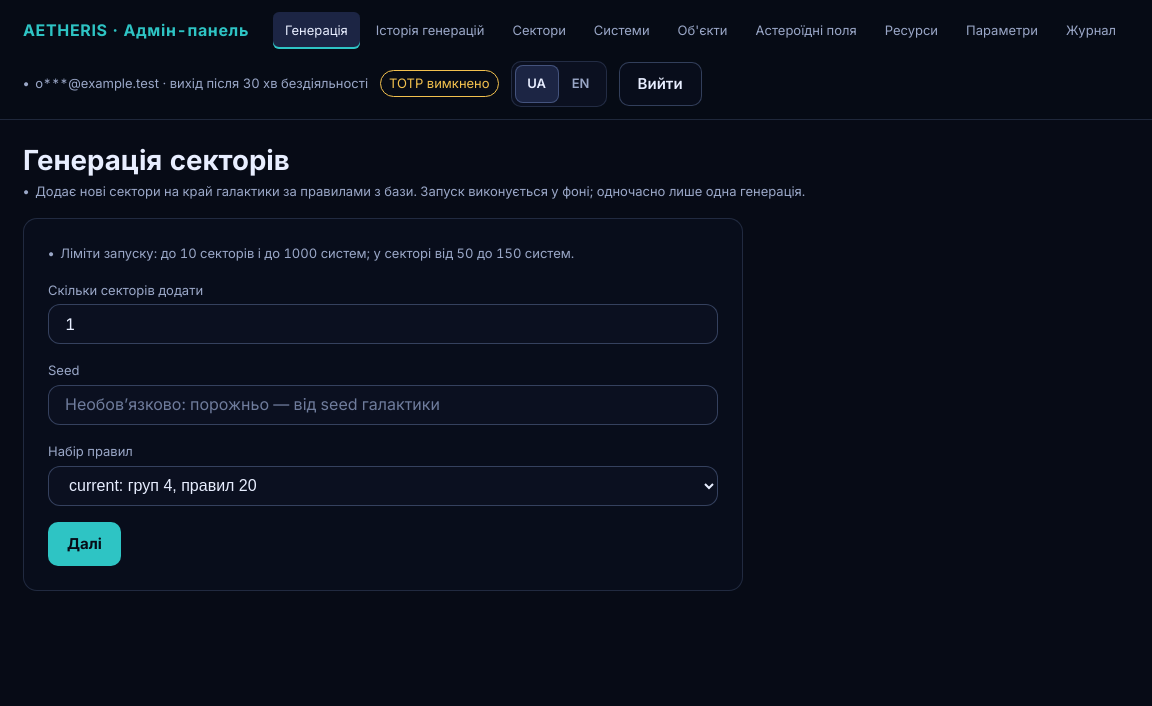
AdminApp › confirms a generation with its summary and shows the result of the run
The image size is (1152, 706).
Replace the text in the number field labelled "Скільки секторів додати" with "2" at x=383, y=324, box [48,304,718,344]
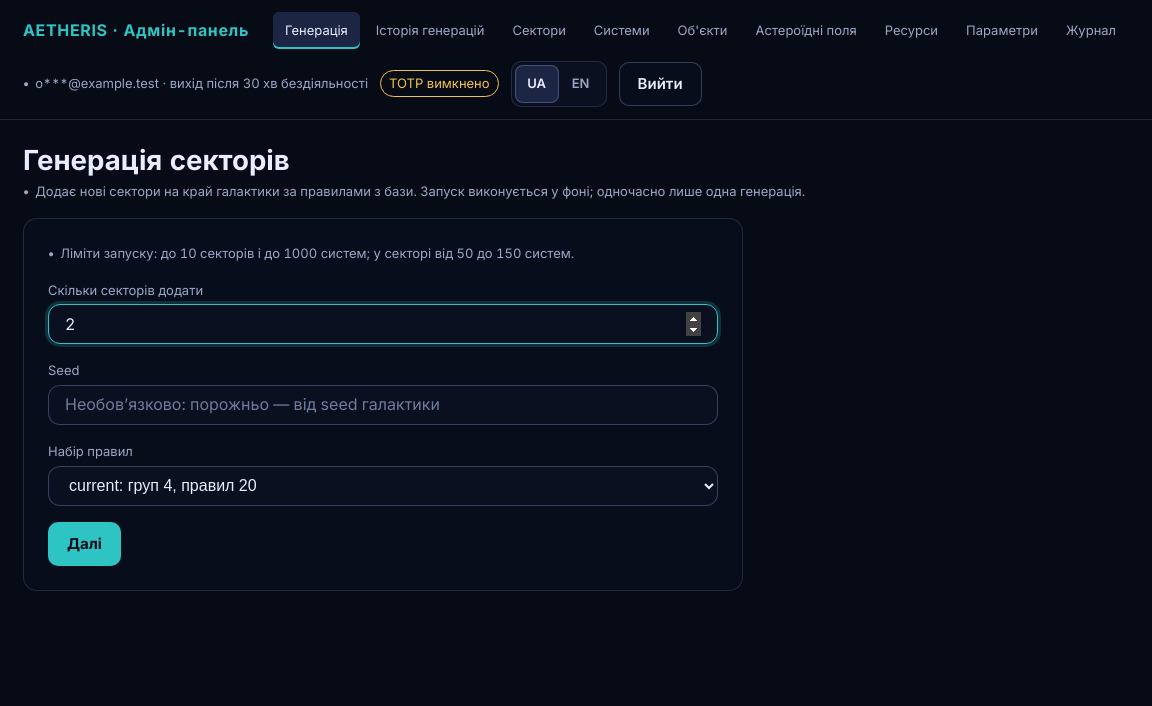
Type "42" into the number field labelled "Seed" at x=383, y=405, box [48,385,718,425]
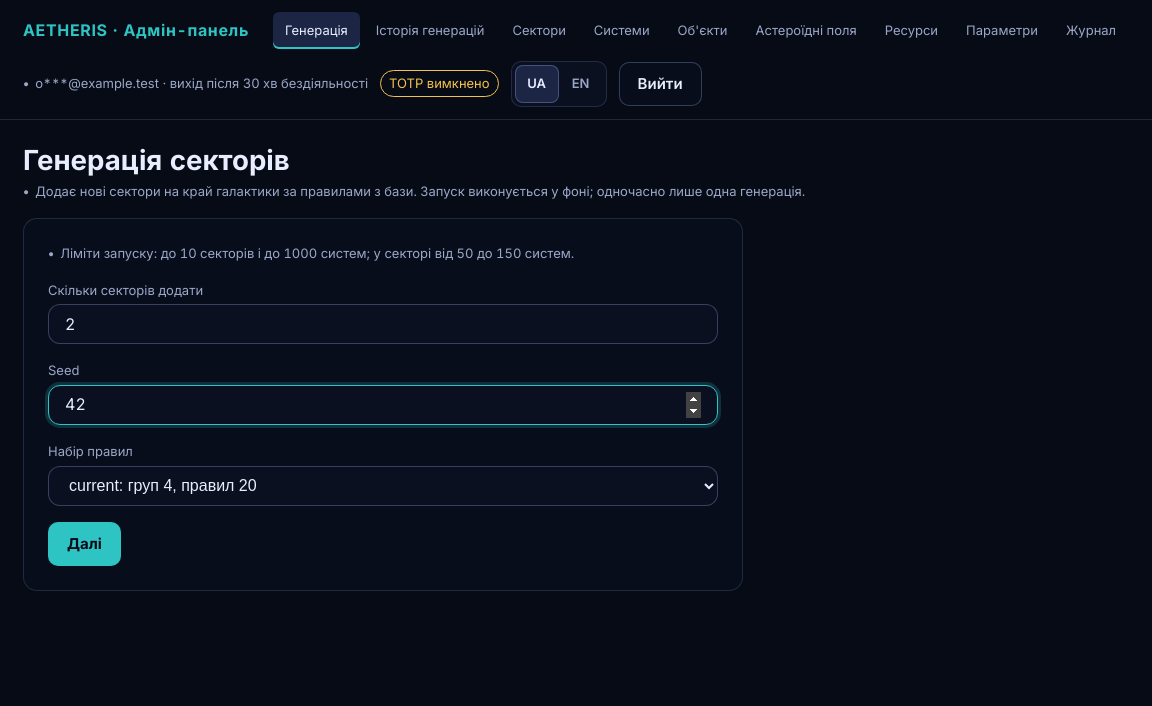
Click the button "Далі" at x=84, y=544, box [48,522,121,566]
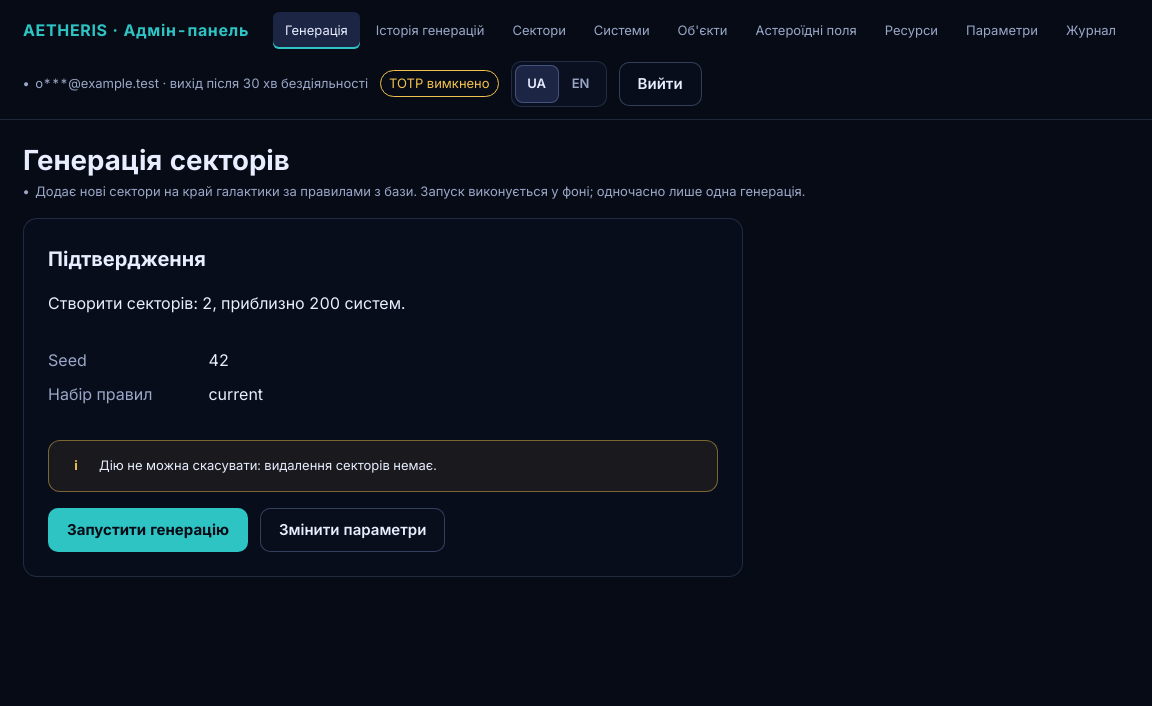
Now the text "Створити секторів: 2, приблизно 200 систем." is shown, box [48,293,405,313]
Click the button "Запустити генерацію" at x=148, y=530, box [48,508,248,552]
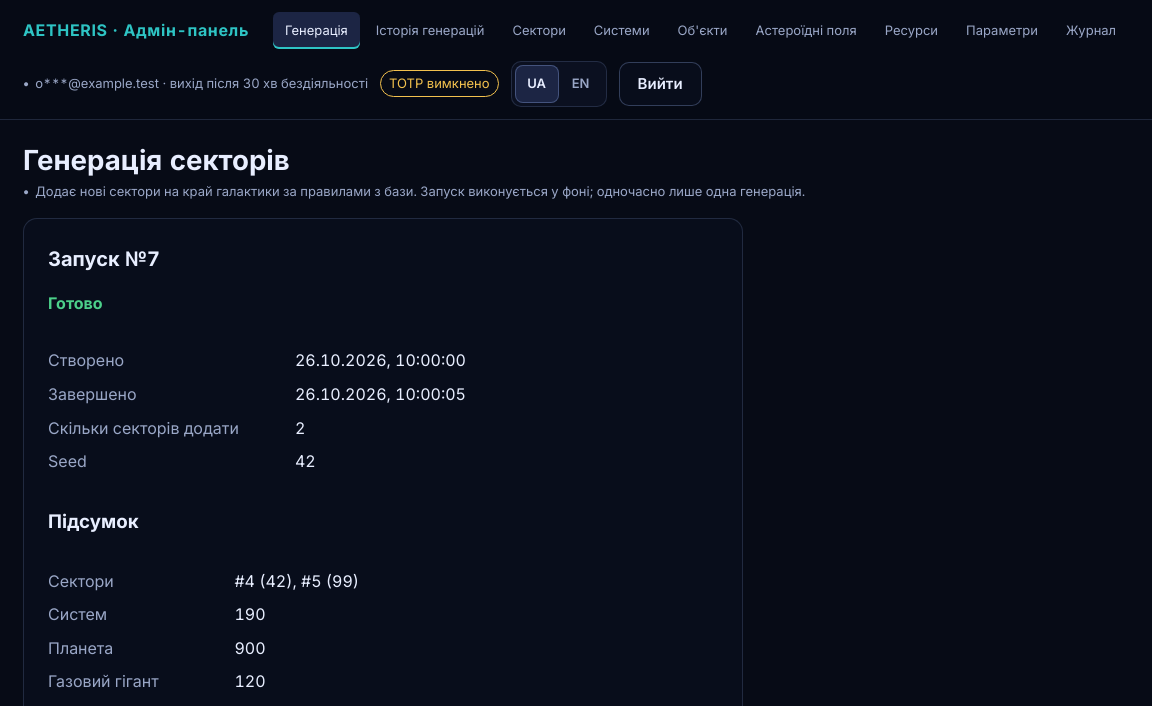
Now the text "Готово" is shown, box [48,293,102,313]
Now the text "#4 (42), #5 (99)" is shown, box [234,571,359,591]
Now the text "190" is shown, box [234,604,266,624]
